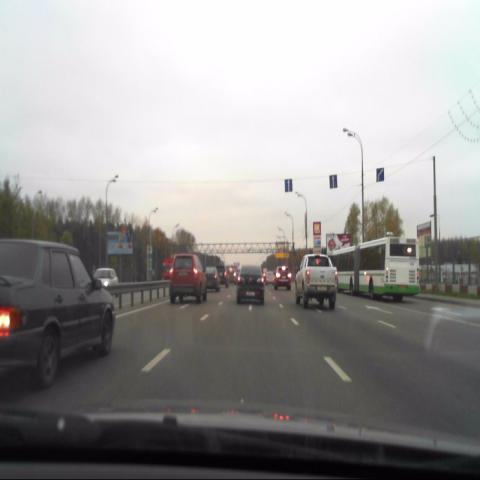5_15_2: (330, 174, 338, 189), (376, 168, 384, 183), (284, 179, 292, 192)
